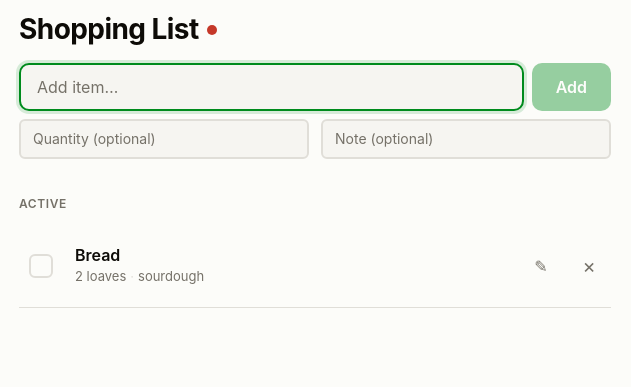
Test: Task 4 — Inline edit mode › AC4: save returns to display mode showing updated name
Expected: the text "Bread" is shown, [75,245,120,265]
Step 1. Click the button named "edit bread" → (541, 266), box [519,244,563,288]
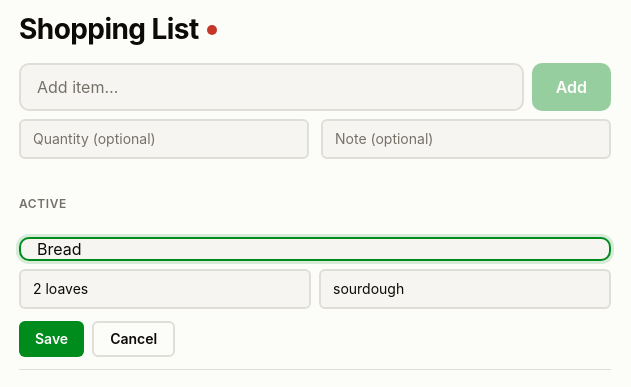
Expected: the field named "Edit item name" holds "Bread"
Step 2. Replace the text in the field named "Edit item name" with "Sourdough Bread" → (315, 249), box [19,237,611,261]
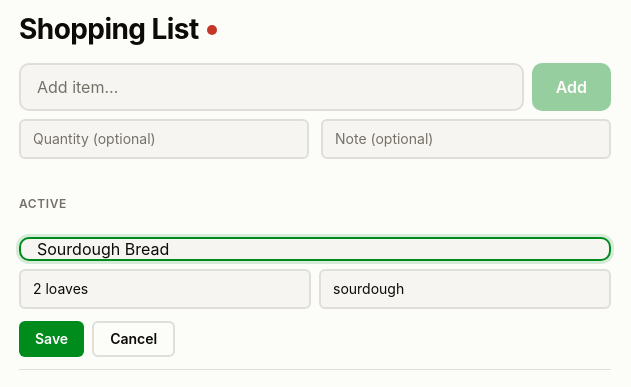
Step 3. Click the button with aria-label "save changes" → (52, 339), box [19,321,84,357]
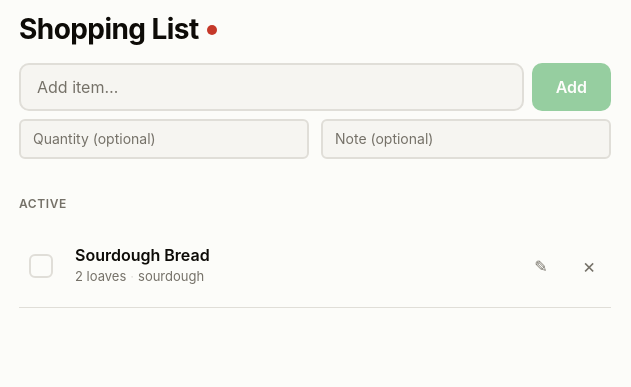
Expected: the text "Sourdough Bread" is shown, [75,245,210,265]
